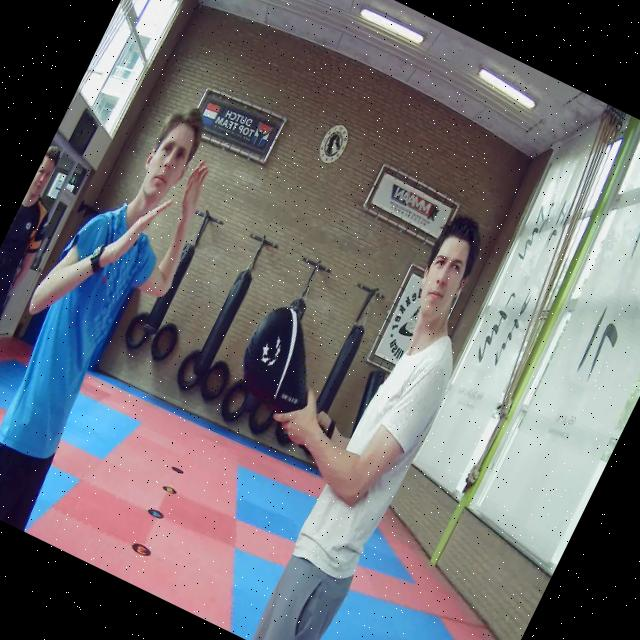paddle: (242, 307, 310, 411)
